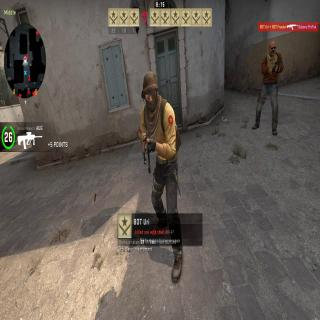T-Body: (137, 70, 185, 282), (252, 40, 284, 134)
T-Head: (141, 72, 158, 110), (268, 41, 276, 57)
